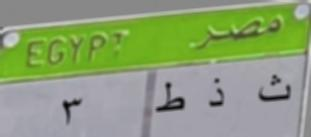3: (60, 90, 85, 131)
Taa: (153, 80, 185, 122)
thaa: (255, 72, 298, 106)
zaal: (201, 74, 231, 117)
